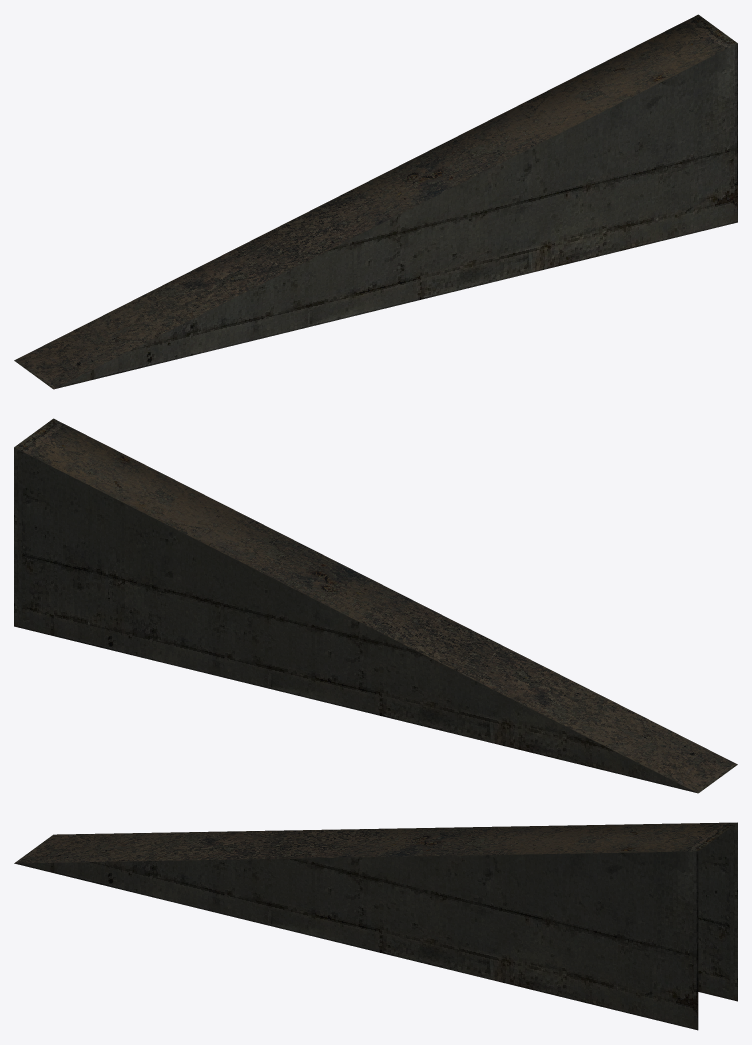
File: wall_top_part_rg_1.glb
3 renders of one model, top to bottom at view 1: azimuth 30°, elevation 25°; view 2: azimuth 150°, elevation 25°; view 3: azimuth 330°, elevation 25°, orthographic.
Parts seen in each view (by area): view 1: wall_top_part_rg_1; view 2: wall_top_part_rg_1; view 3: wall_top_part_rg_1.
Boxes of the visible parts, x1,y1,x2,y2 form: wall_top_part_rg_1: (14, 14, 737, 389); wall_top_part_rg_1: (14, 418, 737, 793); wall_top_part_rg_1: (14, 822, 737, 1030).
Size of the model in its own units: 4 by 1 by 0.4.
2 materials, 2 textured.
